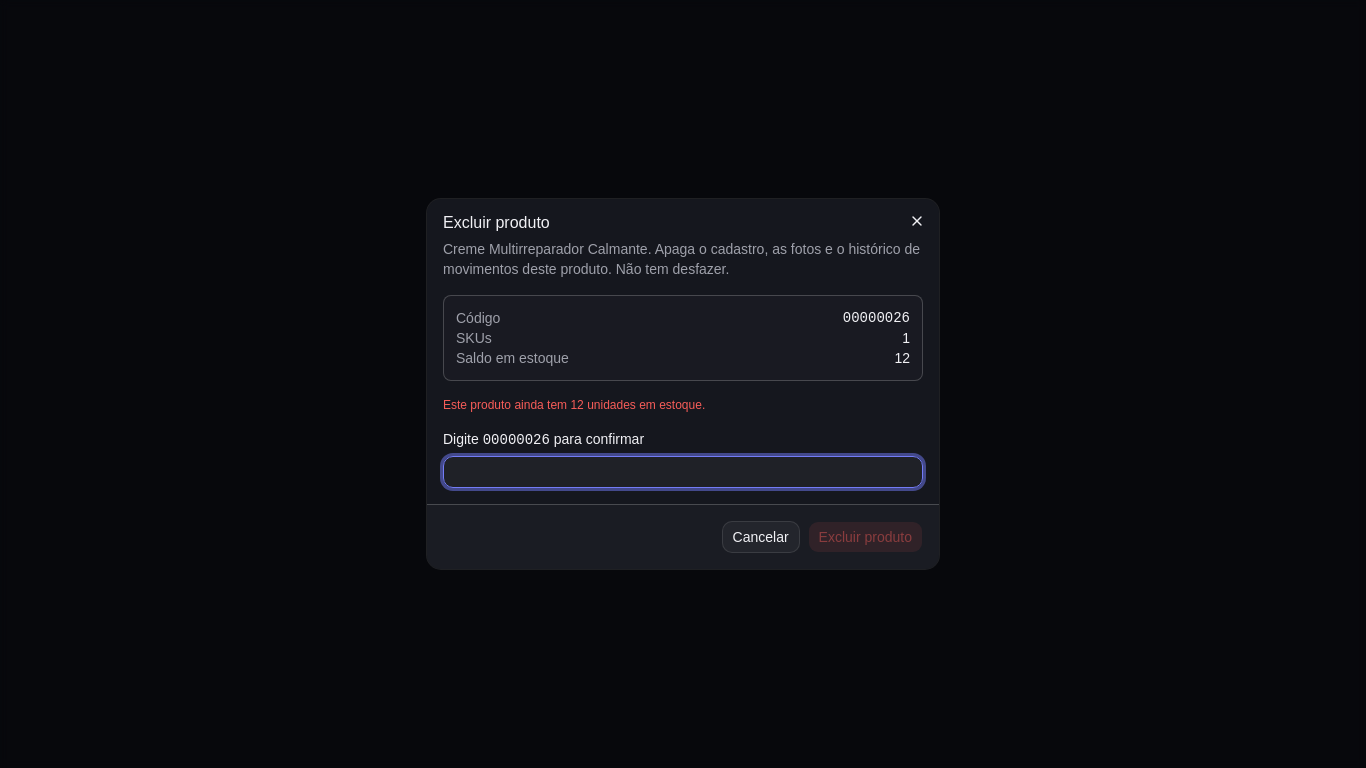
Scenario: DialogExcluirProduto › só habilita o botão quando o código digitado bate
Check: the button "Excluir produto" is disabled, box [808, 521, 923, 553]
Type "00000027" into the field labelled "Digite 00000026 para confirmar" at (683, 472), box [443, 456, 923, 488]
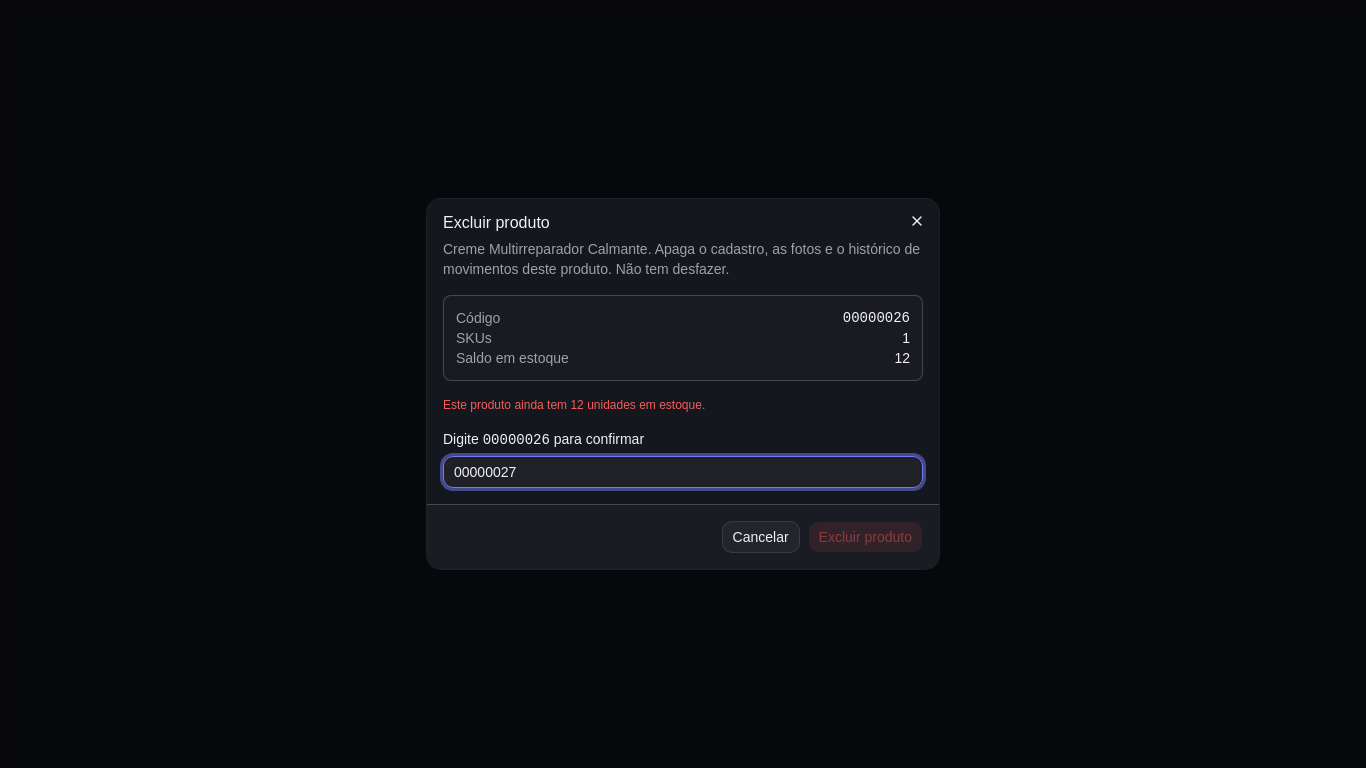
Check: the button "Excluir produto" is disabled, box [808, 521, 923, 553]
Replace the text in the field labelled "Digite 00000026 para confirmar" with "00000026" at (683, 472), box [443, 456, 923, 488]
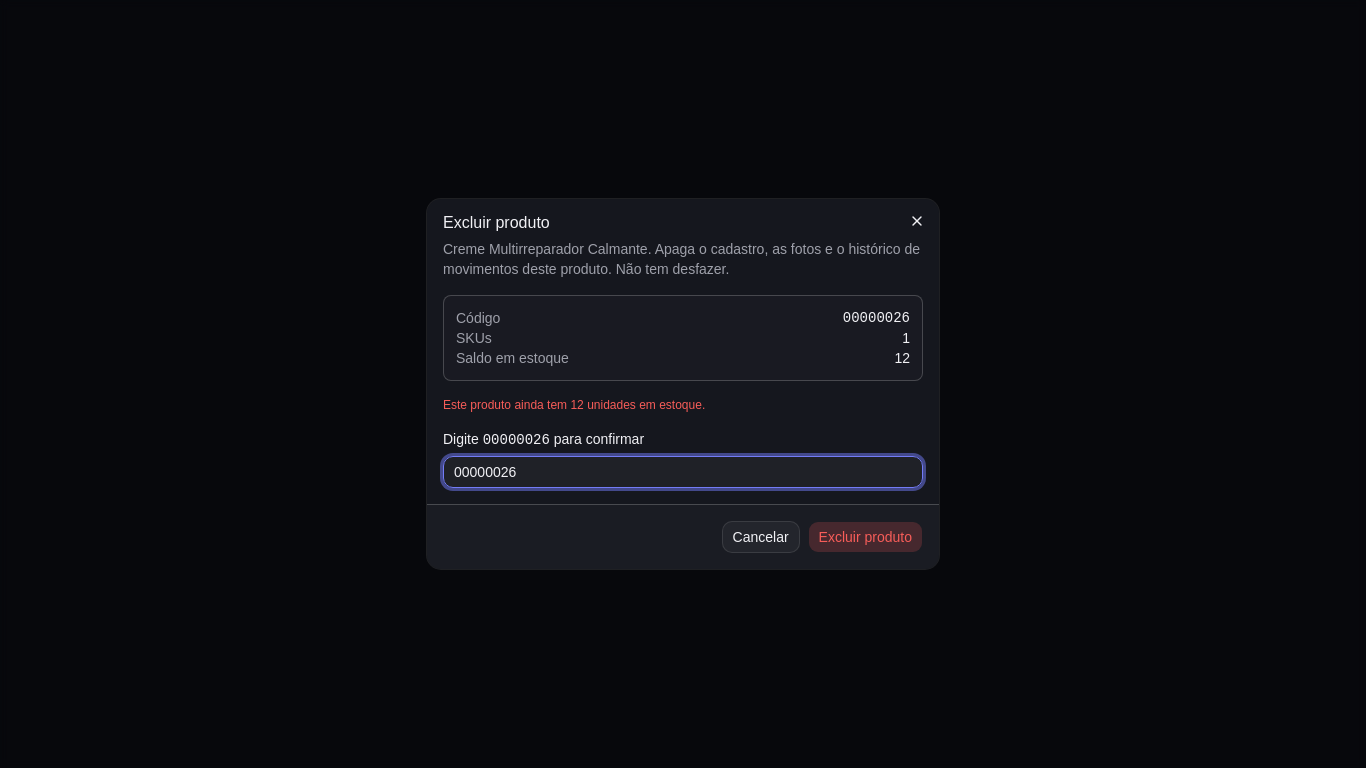
Check: the button "Excluir produto" is enabled, box [808, 521, 923, 553]
